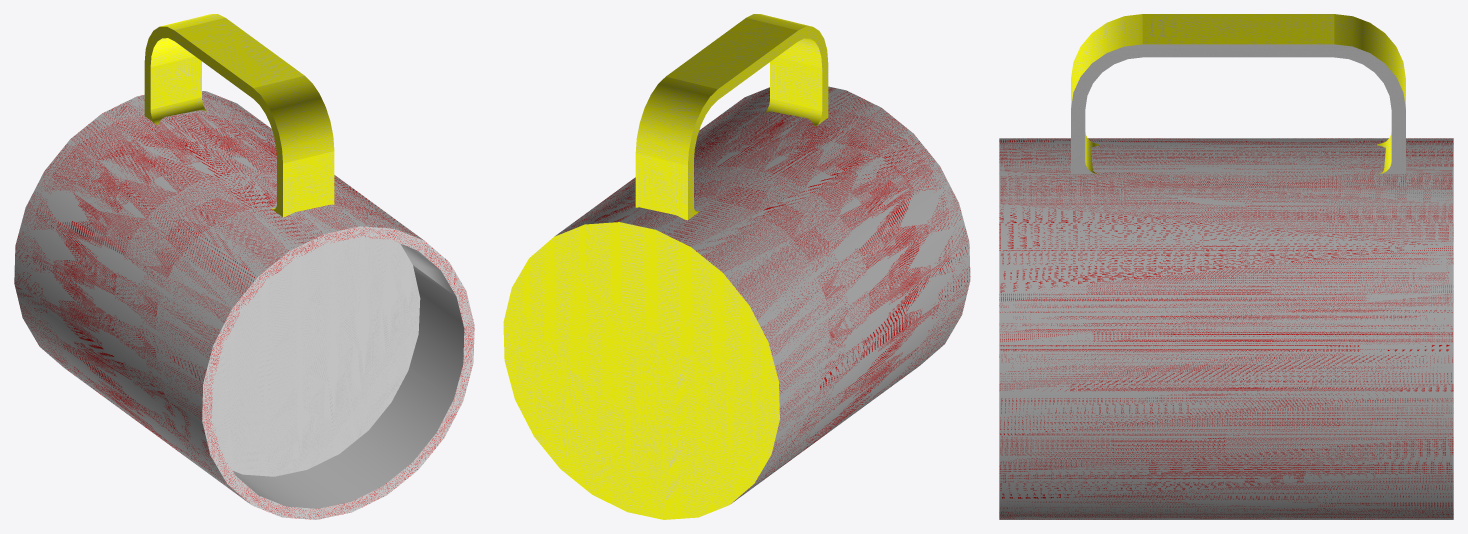
Rendered from model_scale.obj.
The picture shows the model from 3 angles, left to right: view 1: azimuth 30°, elevation 25°; view 2: azimuth 150°, elevation 25°; view 3: azimuth 270°, elevation 25°; orthographic projection. The views are drawn at different scales.
Parts seen in each view (by area): view 1: mesh1_mesh1-geometry, mesh2_mesh2-geometry; view 2: mesh1_mesh1-geometry, mesh2_mesh2-geometry; view 3: mesh1_mesh1-geometry, mesh2_mesh2-geometry.
Boxes of the visible parts, x1,y1,x2,y2 form: mesh1_mesh1-geometry: (14,91,474,519); mesh2_mesh2-geometry: (144,14,334,217); mesh1_mesh1-geometry: (503,86,970,519); mesh2_mesh2-geometry: (635,14,828,220); mesh1_mesh1-geometry: (999,138,1453,519); mesh2_mesh2-geometry: (1071,14,1405,174).
Size of the model in its own units: 0.0844 by 0.1155 by 0.1008.
